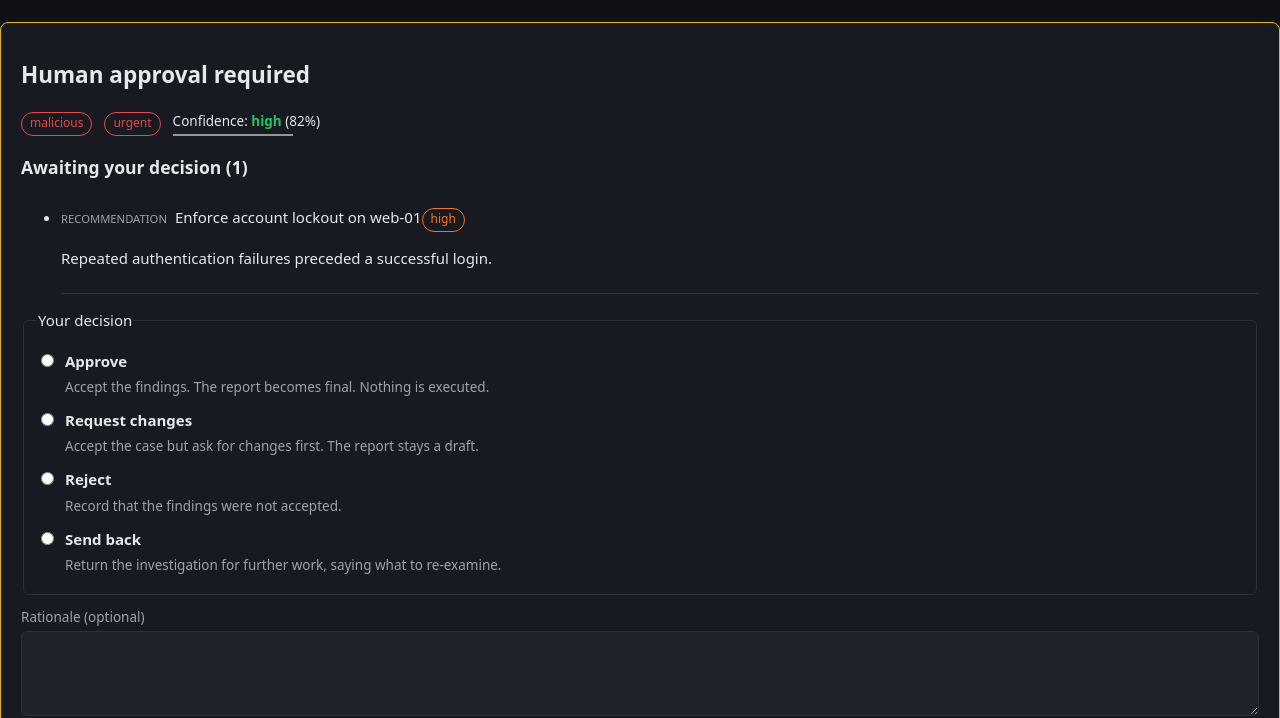
what the analyst may do › requires a reason for edit
Click the radio button labelled "Request changes". click: (48,420)
box: [41,413,54,426]
(page scrolled)
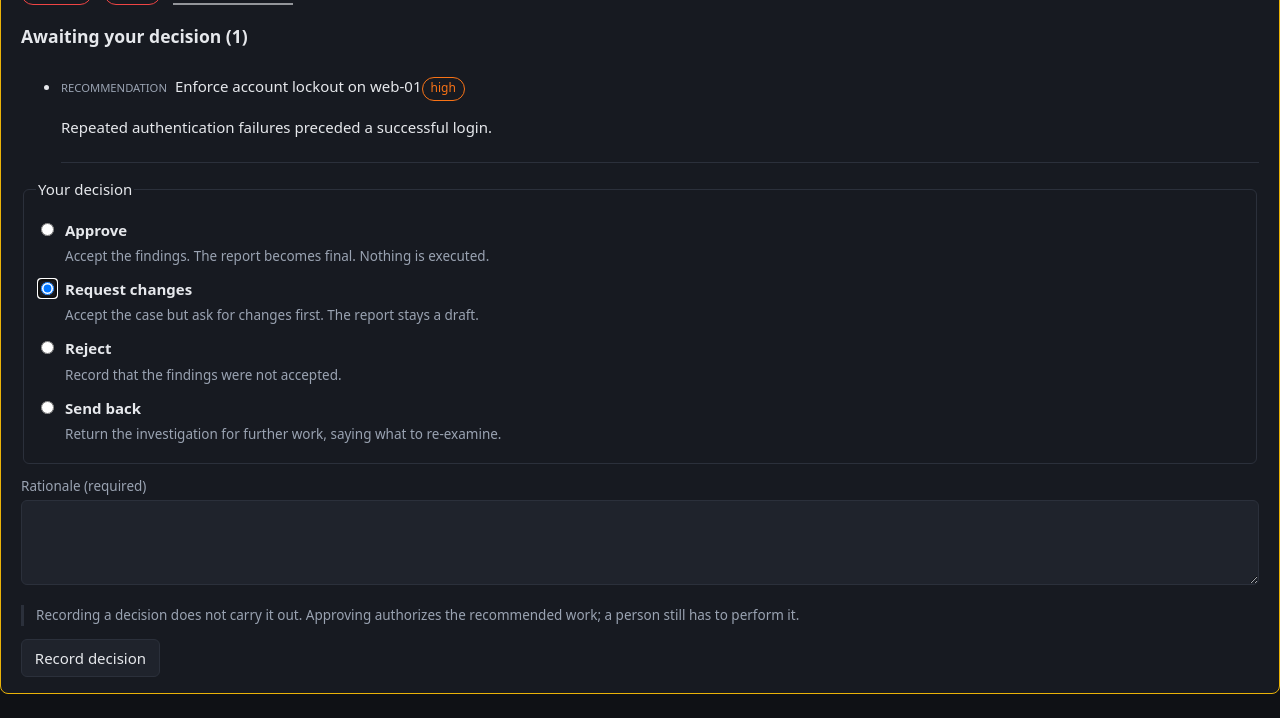
Click the button "Record decision". click: (90,658)
box: [21,639,160,677]
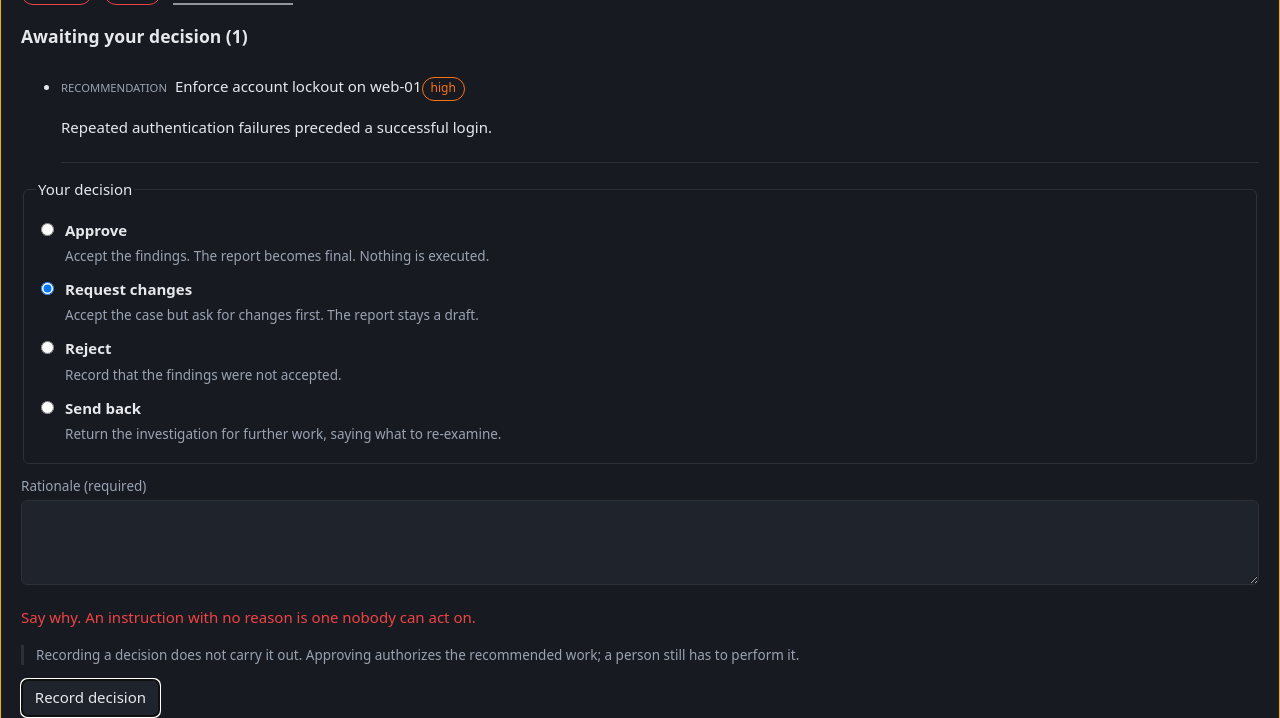
Check: the message shows "Say why", box [21,607,476,627]
